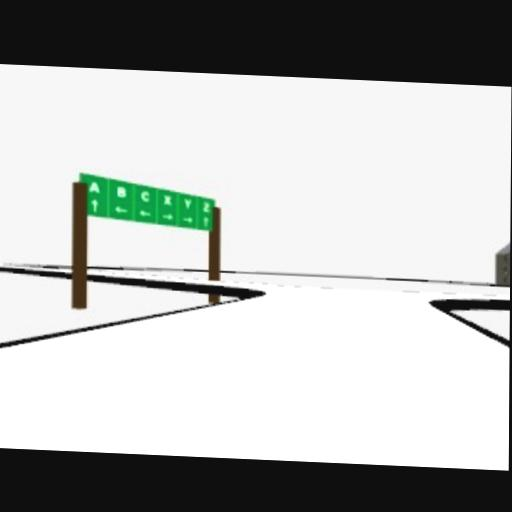A: (90, 182, 100, 192)
B: (117, 186, 127, 199)
C: (141, 190, 151, 203)
Left: (114, 206, 127, 215), (138, 211, 150, 218)
Right: (161, 212, 174, 221), (181, 217, 193, 224)
Straight: (91, 200, 98, 213), (203, 216, 210, 229)
X: (163, 194, 173, 207)
Y: (184, 198, 192, 209)
